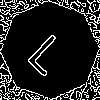L: (25, 25, 77, 78)
